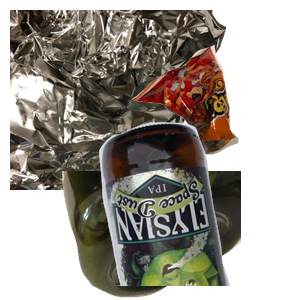glass: (97, 120, 300, 300)
metal: (10, 10, 229, 190)
plastic: (60, 171, 300, 300)
trash: (130, 43, 300, 190)
